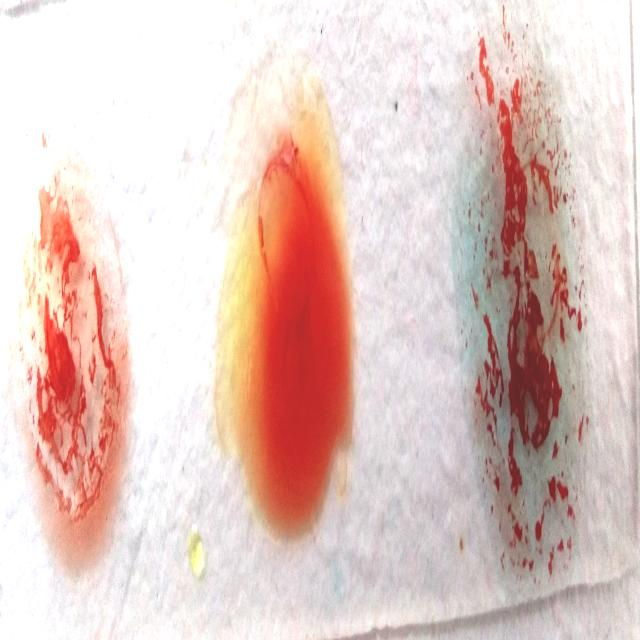A: (455, 50, 596, 610)
D: (15, 142, 130, 593)
